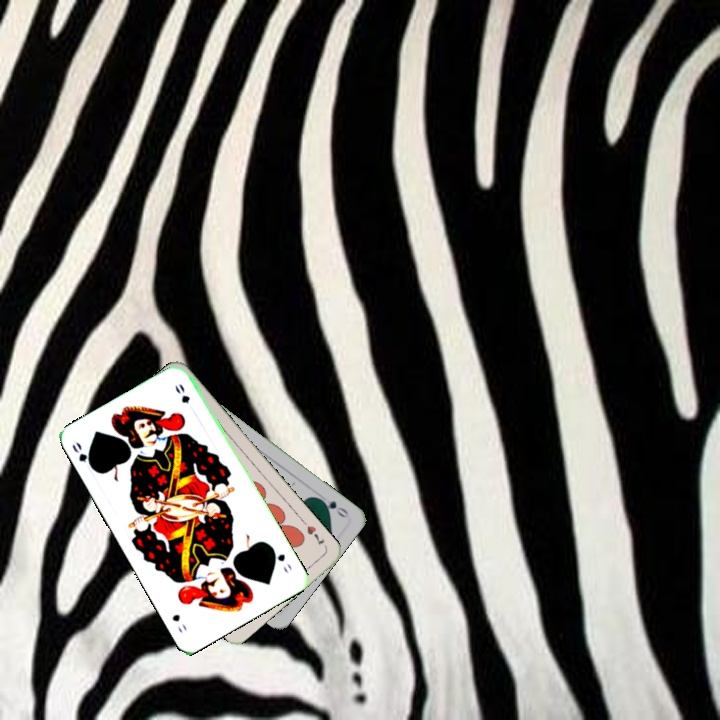GO: (68, 438, 98, 473), (314, 494, 352, 520), (267, 543, 294, 576)
H7: (303, 521, 327, 549)
